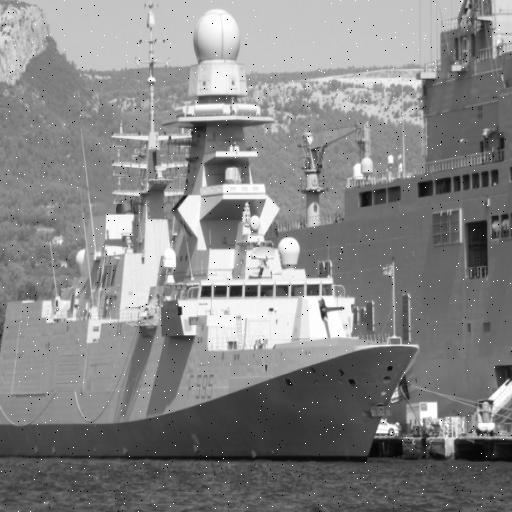Fragata: (1, 1, 424, 468)
